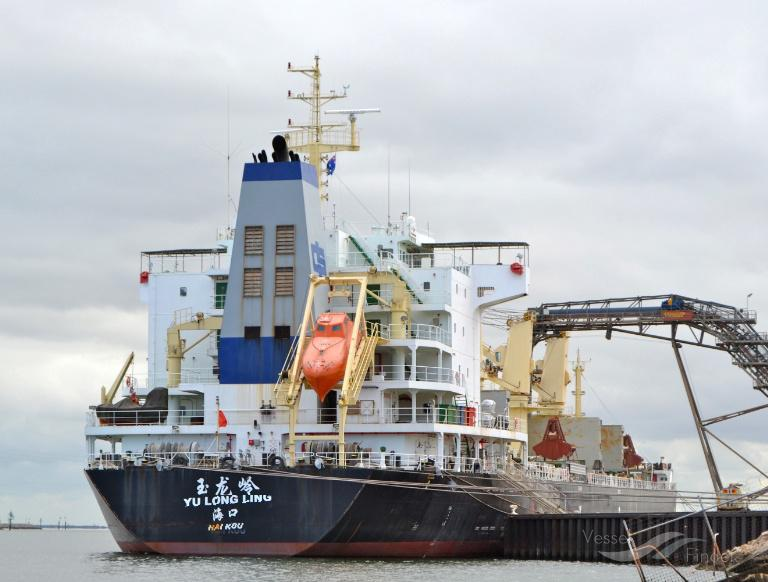OCR: (180, 496, 276, 540)
